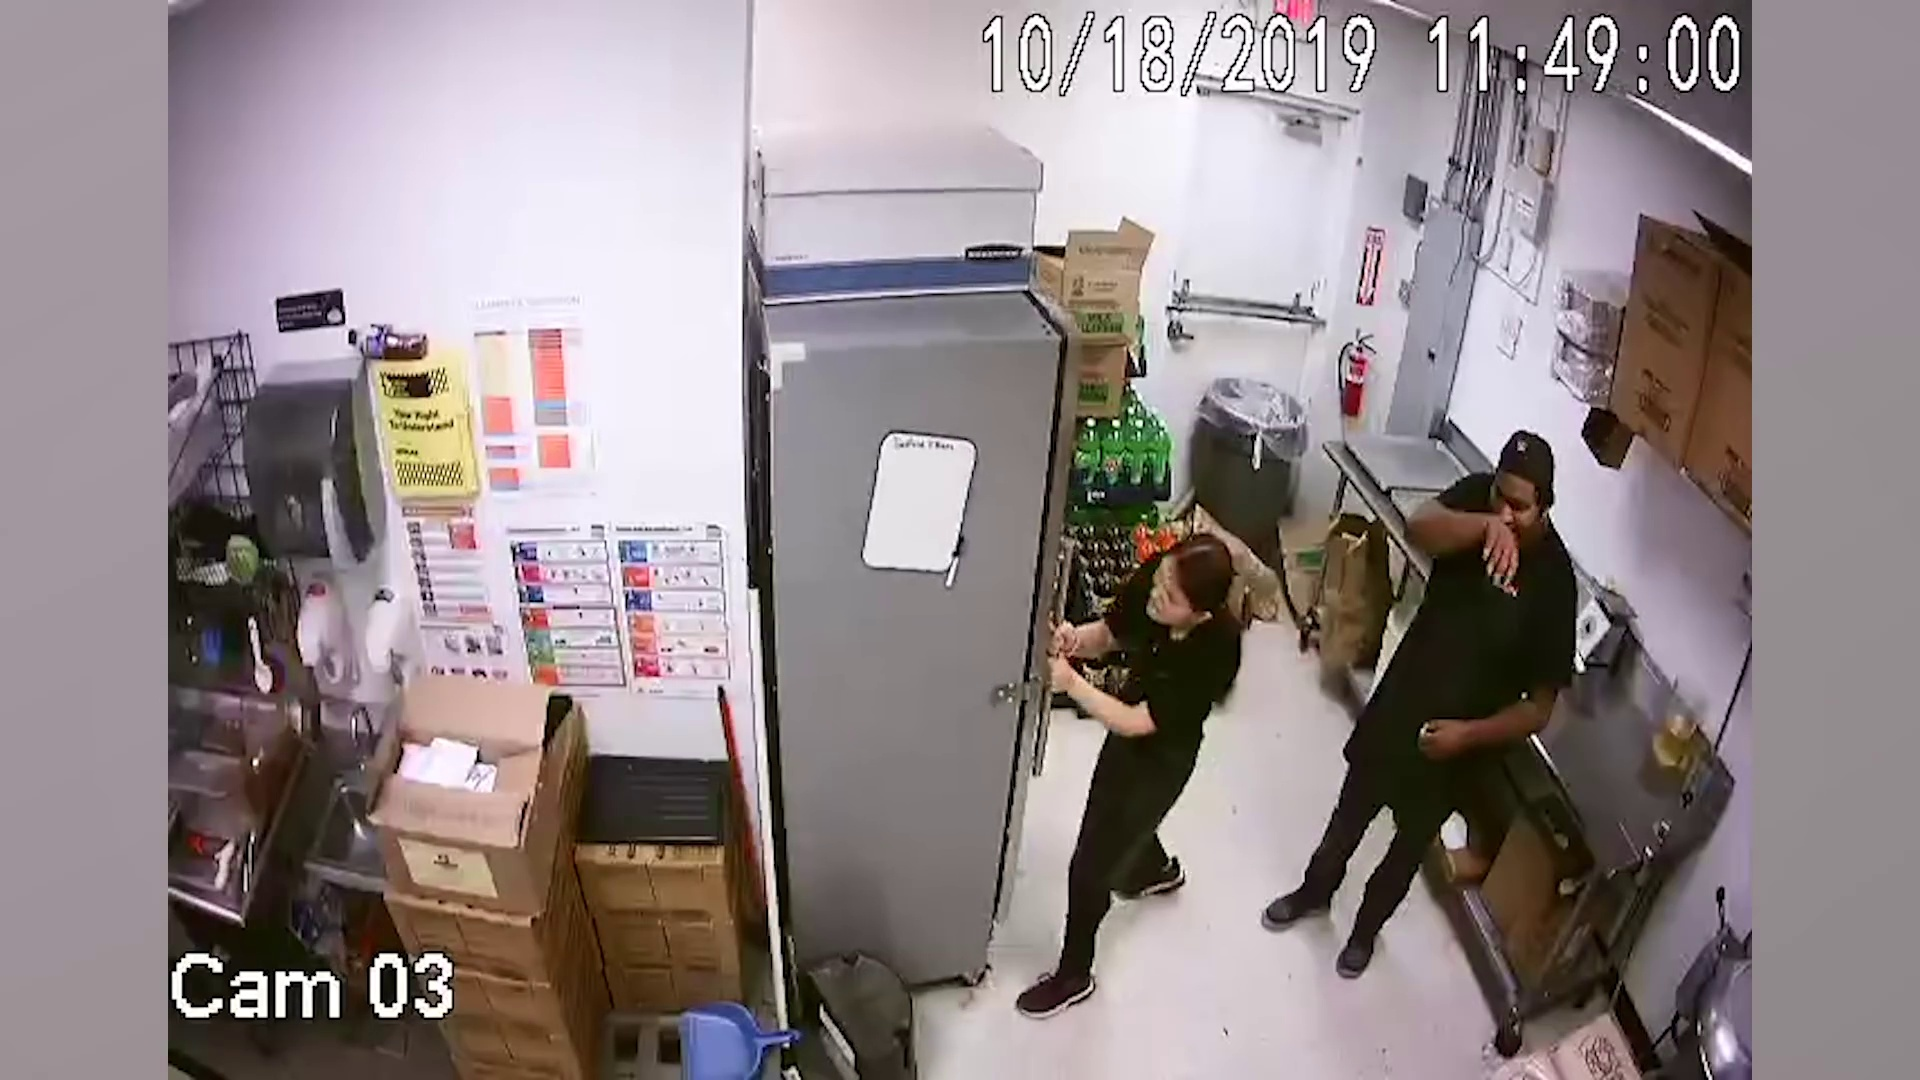face: (1146, 553, 1194, 626), (1486, 474, 1538, 537)
